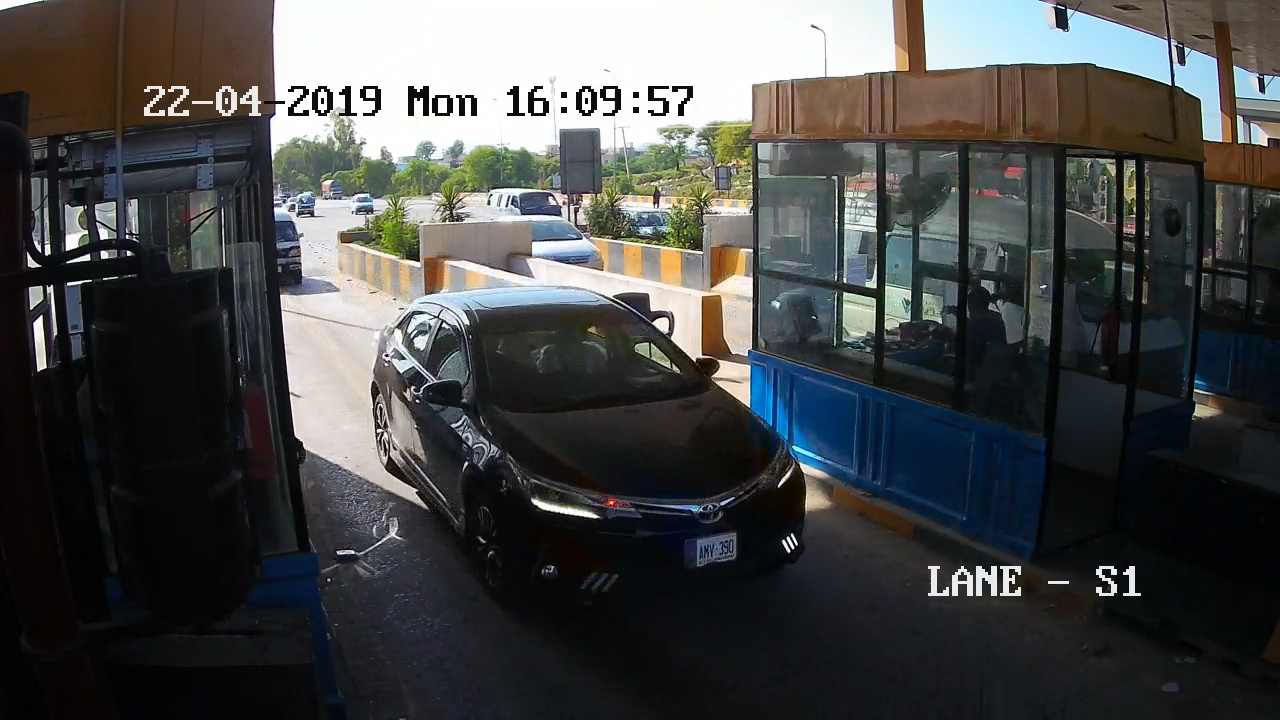Number Plate (Car): (682, 534, 738, 565)
